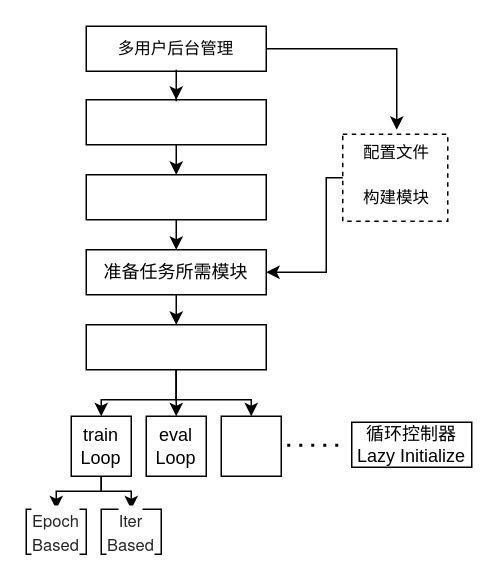
Image size: 498x581. Some labels were removed from this diagram. Here are the shapes that lost their labels. From the top down, the centre of each, then its label:
[175,121]: 创建工作目录
[175,196]: 设置虚拟工作环境
[175,346]: 注册钩子应用
[250,445]: test Loop
